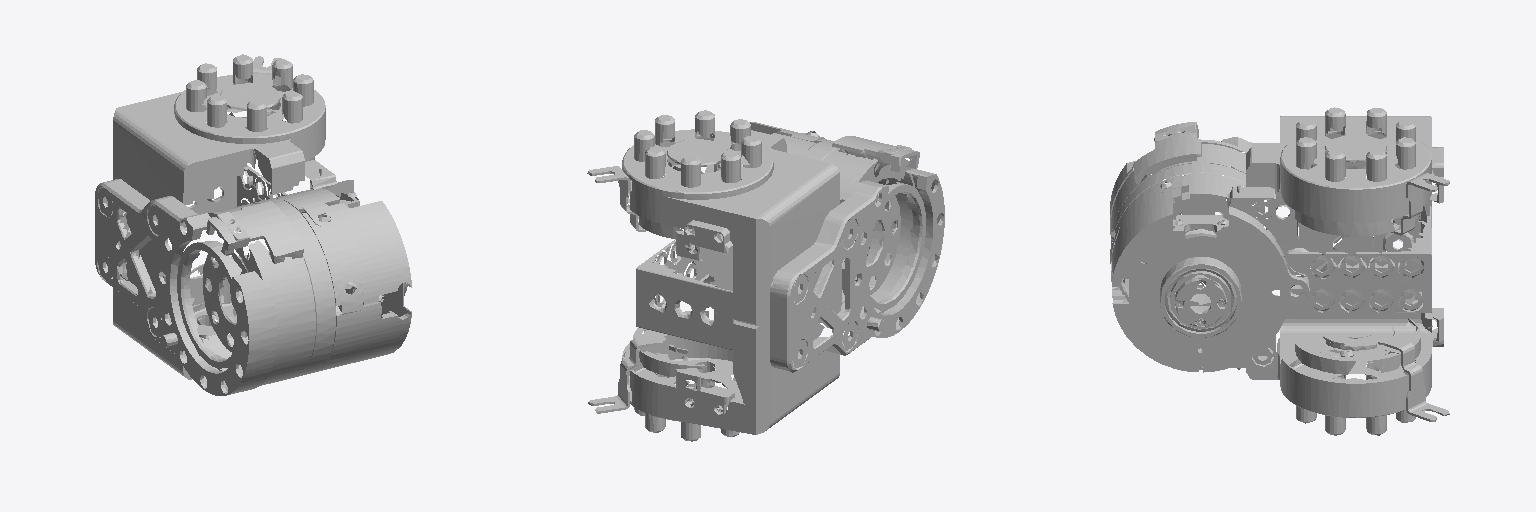
Rendered from sim_ecub_1-1_root_link.obj.
3 renders of one model, left to right at view 1: azimuth 30°, elevation 25°; view 2: azimuth 150°, elevation 25°; view 3: azimuth 270°, elevation 25°, orthographic.
Bounding box in the file's own units: 92.62 × 120 × 133.